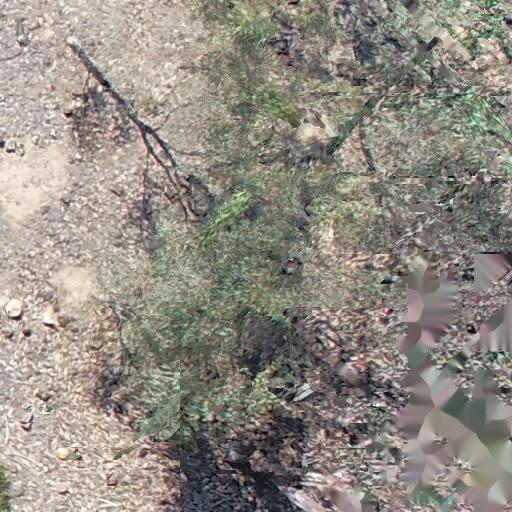stone: (42, 304, 62, 330), (4, 297, 23, 321), (104, 181, 126, 197), (56, 446, 77, 460), (63, 33, 80, 49), (20, 410, 35, 428), (15, 33, 32, 48), (106, 446, 124, 460), (63, 102, 78, 117), (19, 322, 33, 338), (2, 324, 16, 339), (39, 201, 52, 217), (35, 390, 52, 402), (4, 140, 18, 154), (105, 474, 120, 487), (73, 150, 83, 164), (59, 197, 71, 208), (57, 485, 70, 495), (31, 135, 41, 148), (41, 404, 54, 414), (26, 250, 39, 258)
